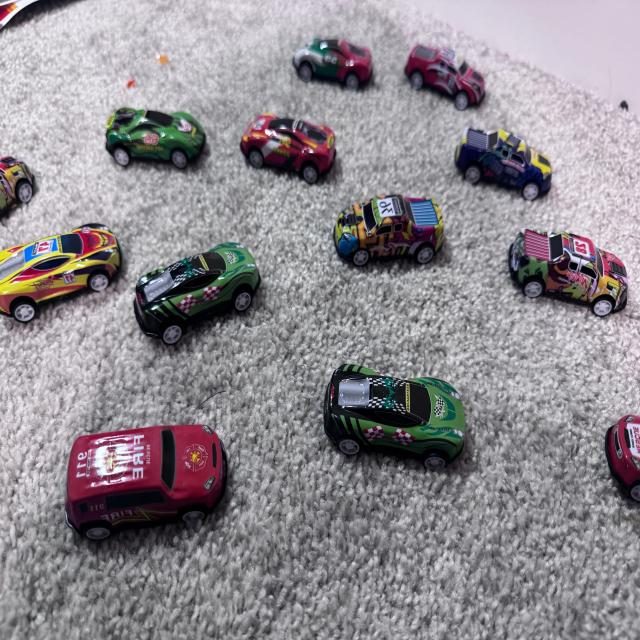car: (313, 342, 512, 491), (65, 382, 231, 550), (446, 105, 636, 248), (117, 226, 267, 352), (502, 204, 640, 324), (0, 216, 150, 324), (324, 162, 459, 272), (277, 0, 392, 102), (101, 104, 224, 186), (398, 23, 498, 113), (240, 102, 349, 176)
